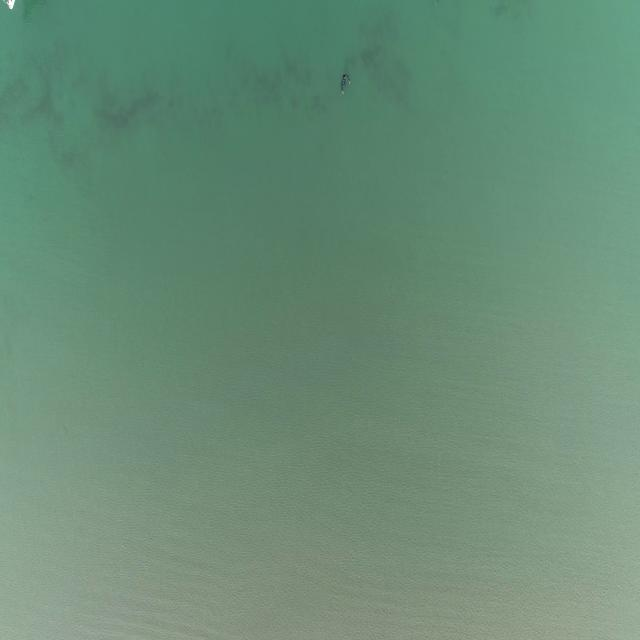person: (339, 73, 353, 94)
